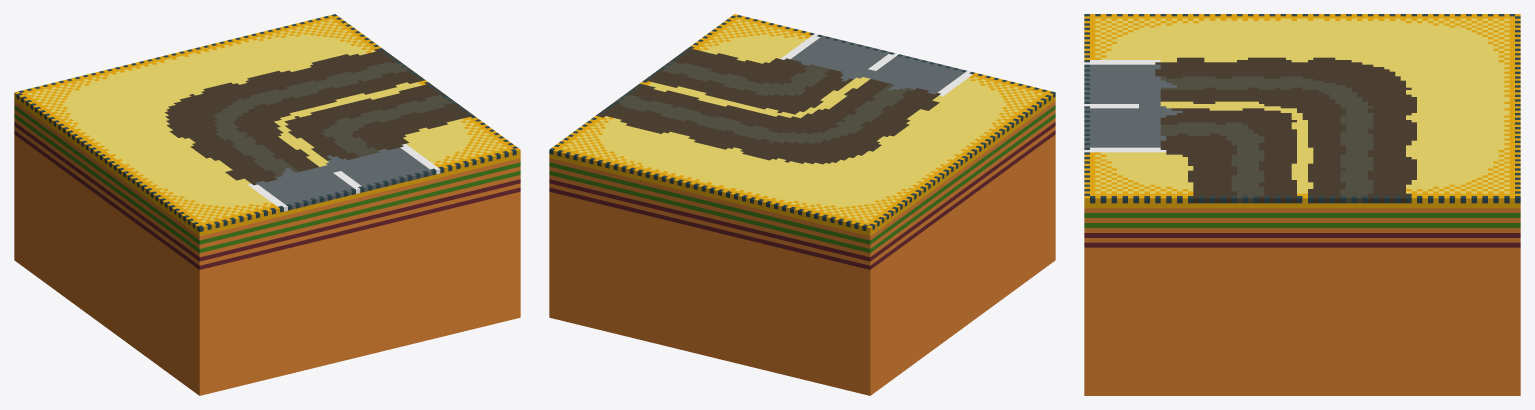
The model's file is sand_road_transition_2_tile.obj.
3 renders of one model, left to right at view 1: azimuth 30°, elevation 25°; view 2: azimuth 150°, elevation 25°; view 3: azimuth 270°, elevation 25°, orthographic. The views are drawn at different scales.
Bounding box in the file's own units: 8 × 4 × 8.
1 material, 1 textured.
